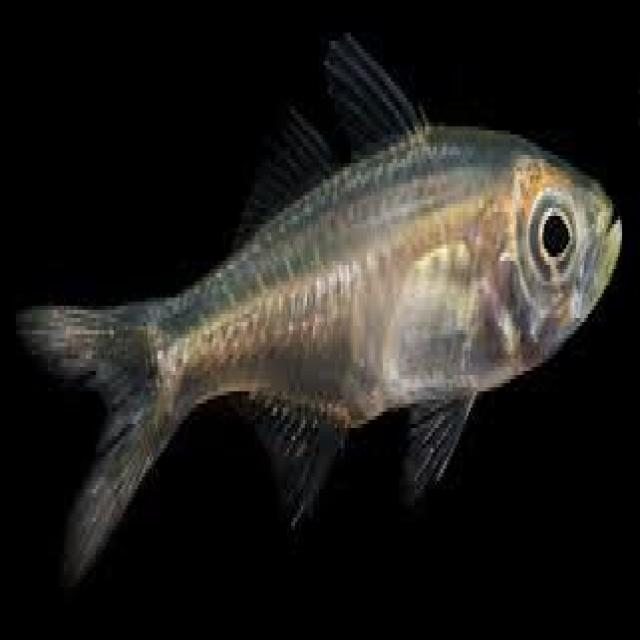Glass-Perchlet: (11, 15, 627, 574)
